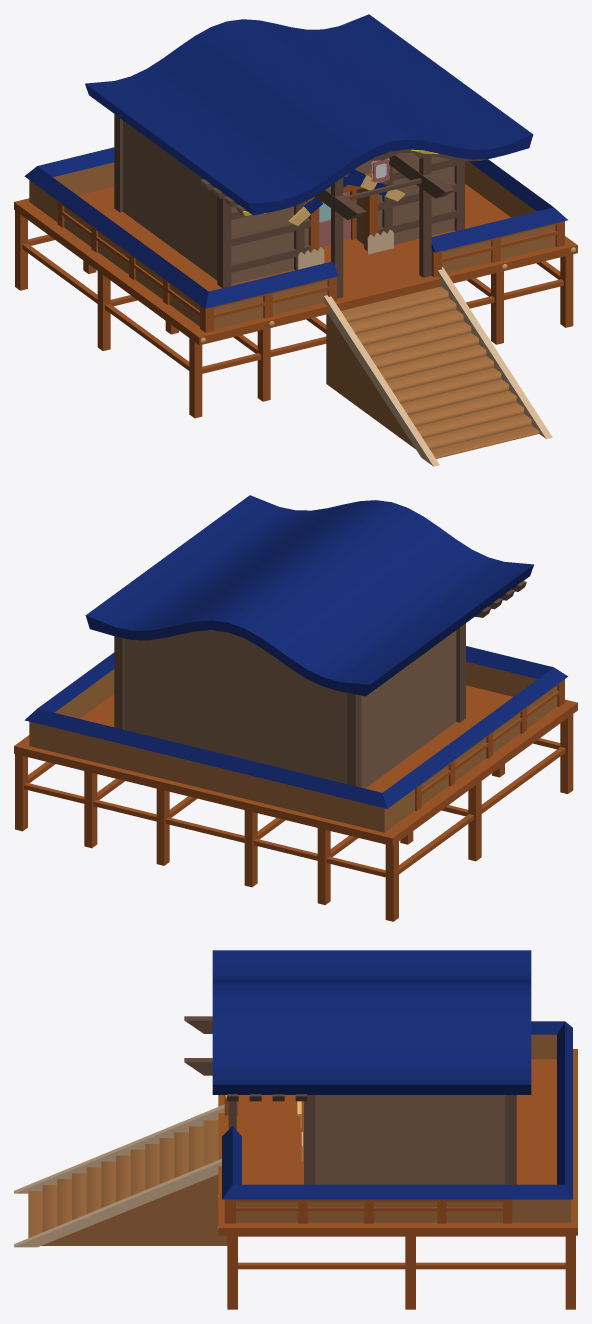
Rendered from DivinerCastle.fbx.
3 renders of one model, top to bottom at view 1: azimuth 30°, elevation 25°; view 2: azimuth 150°, elevation 25°; view 3: azimuth 270°, elevation 25°, orthographic. The views are drawn at different scales.
Visible parts, largest first — view 1: polySurface1; view 2: polySurface1; view 3: polySurface1.
Part boxes in pixels (<box>): polySurface1: <box>14,14,577,466</box>; polySurface1: <box>14,495,577,921</box>; polySurface1: <box>14,950,577,1309</box>.
Size of the model in its own units: 200 by 119 by 267.
